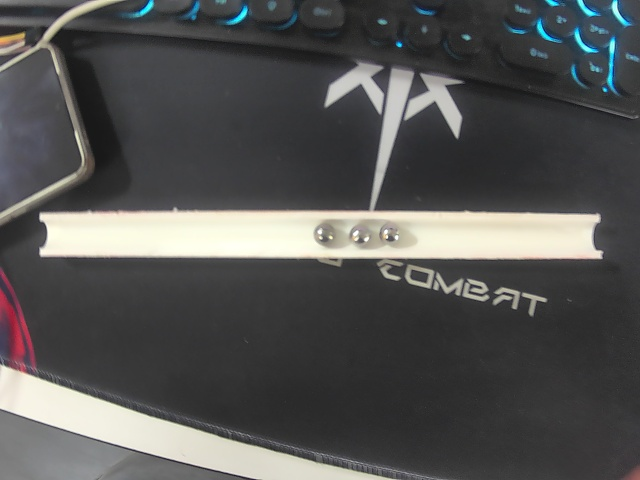steelball: (313, 222, 337, 246), (349, 223, 373, 246), (379, 222, 402, 246)
